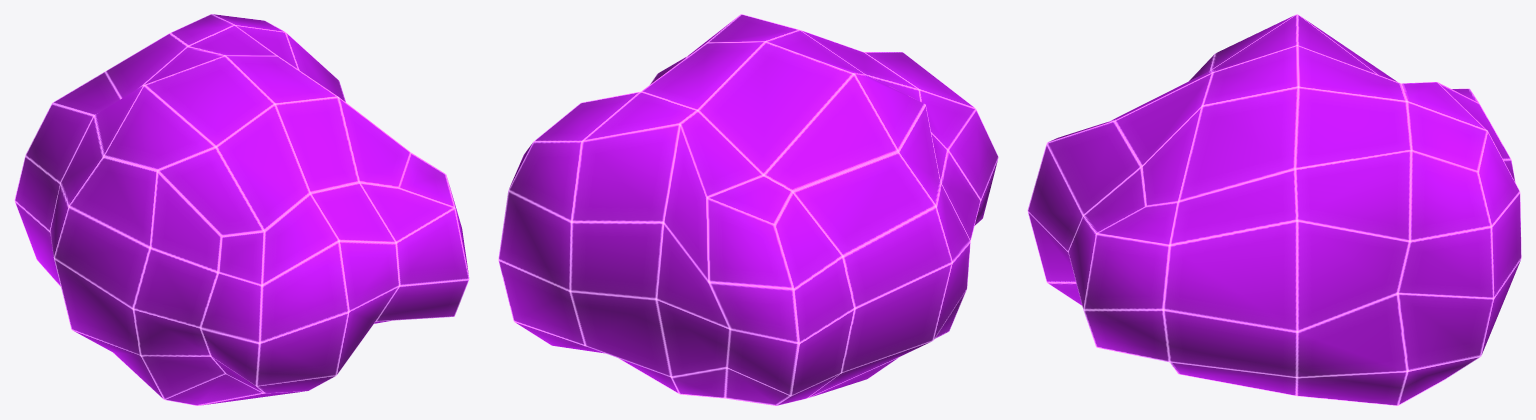
Rendered from Asteroid_large.FBX.
3 views of the same model, side by side, from view 1: azimuth 30°, elevation 25°; view 2: azimuth 150°, elevation 25°; view 3: azimuth 270°, elevation 25° (orthographic). The views are drawn at different scales.
Parts seen in each view (by area): view 1: Asteroid_large; view 2: Asteroid_large; view 3: Asteroid_large.
Part boxes in pixels (box(x1,y1,x2,y2)): Asteroid_large: box(14, 14, 469, 405); Asteroid_large: box(498, 14, 998, 405); Asteroid_large: box(1027, 14, 1521, 405).
Size of the model in its own units: 449 by 390 by 533.
